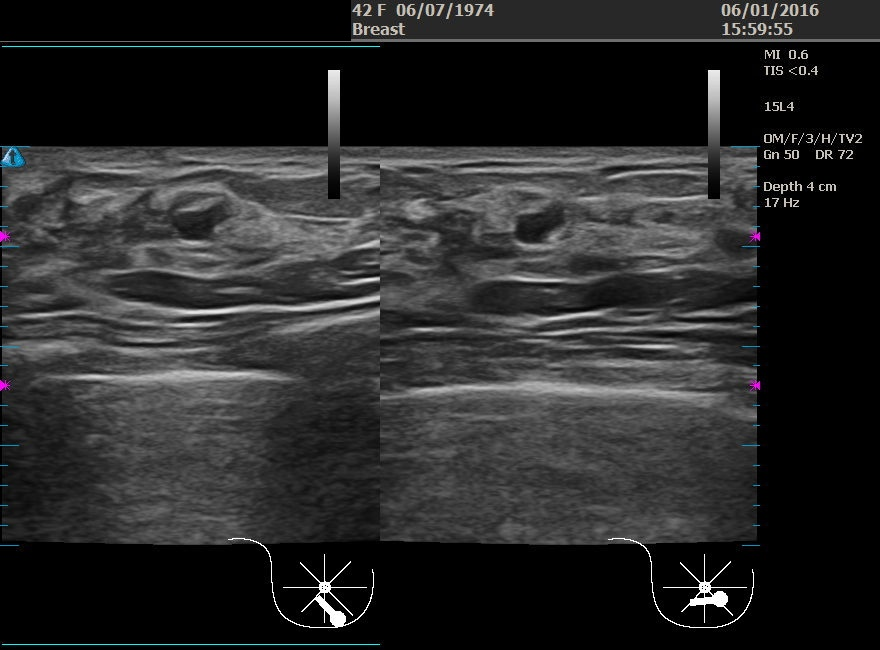BIRADS_2: (93, 157, 293, 358), (457, 175, 657, 375)
